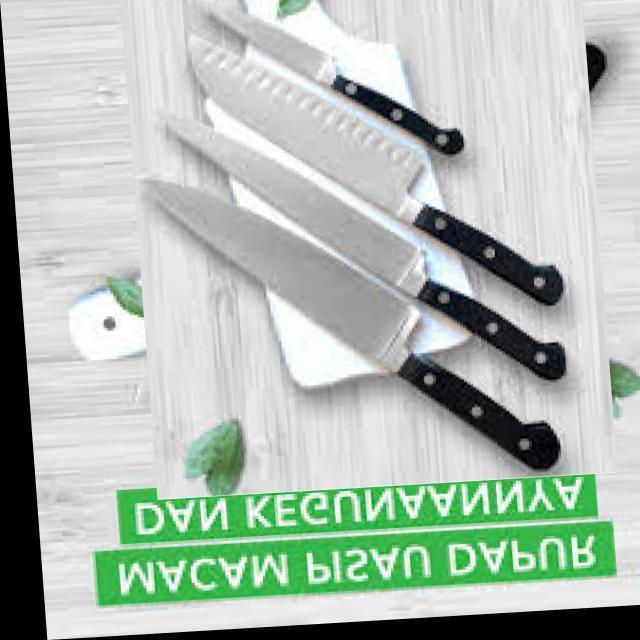knife: (140, 176, 562, 471), (163, 111, 569, 382), (184, 31, 568, 306), (207, 6, 465, 156)
